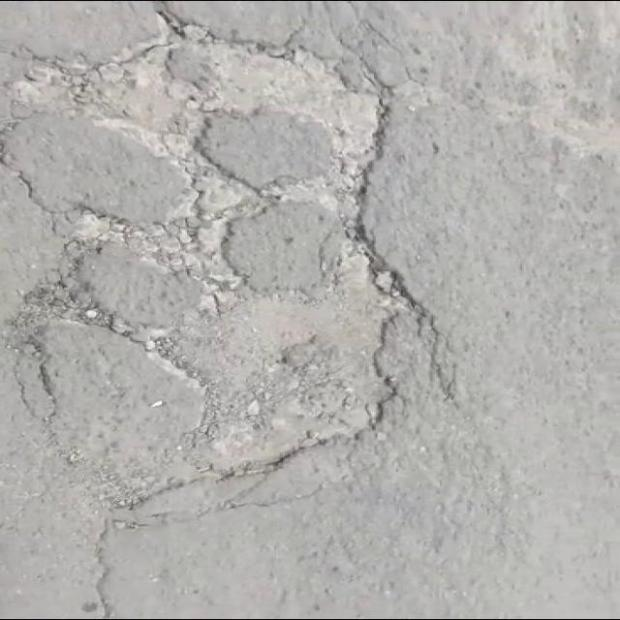lubang: (0, 4, 451, 517)
